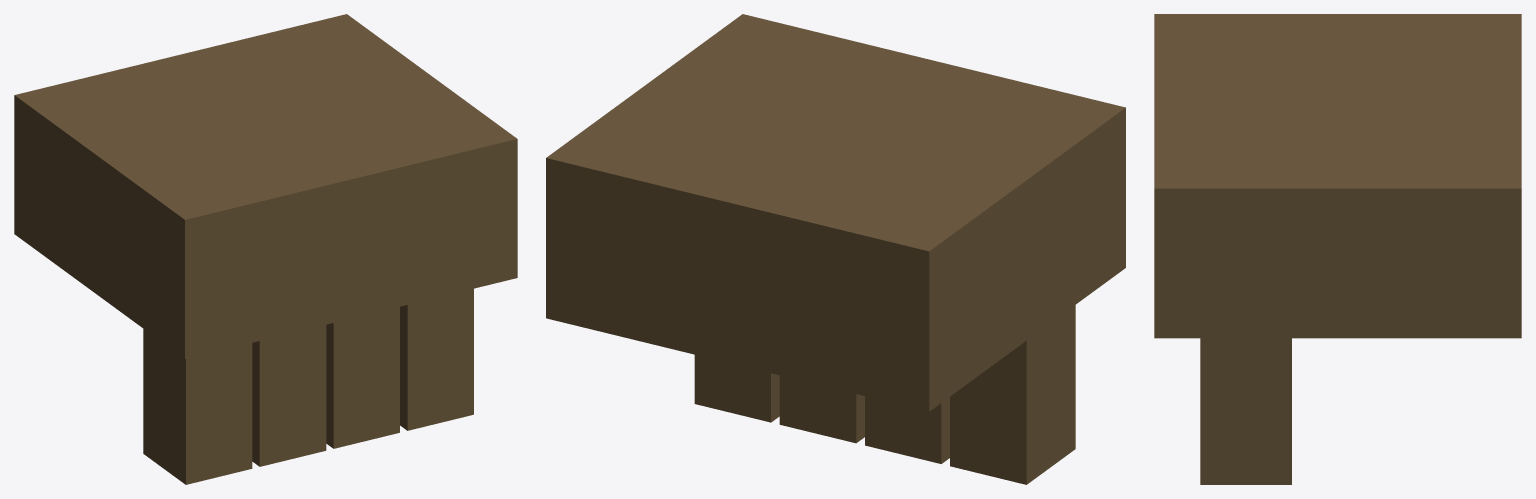
The model's file is inf_driver_hand_r.fbx.
The picture shows the model from 3 angles, left to right: view 1: azimuth 30°, elevation 25°; view 2: azimuth 150°, elevation 25°; view 3: azimuth 270°, elevation 25°; orthographic projection. The views are drawn at different scales.
Visible parts, largest first — view 1: inf_driver_hand_r; view 2: inf_driver_hand_r; view 3: inf_driver_hand_r.
Part boxes in pixels (box(x1,y1,x2,y2)): inf_driver_hand_r: box(14, 14, 517, 484); inf_driver_hand_r: box(546, 14, 1125, 484); inf_driver_hand_r: box(1154, 14, 1521, 484).
Bounding box in the file's own units: 90 × 74 × 80.
